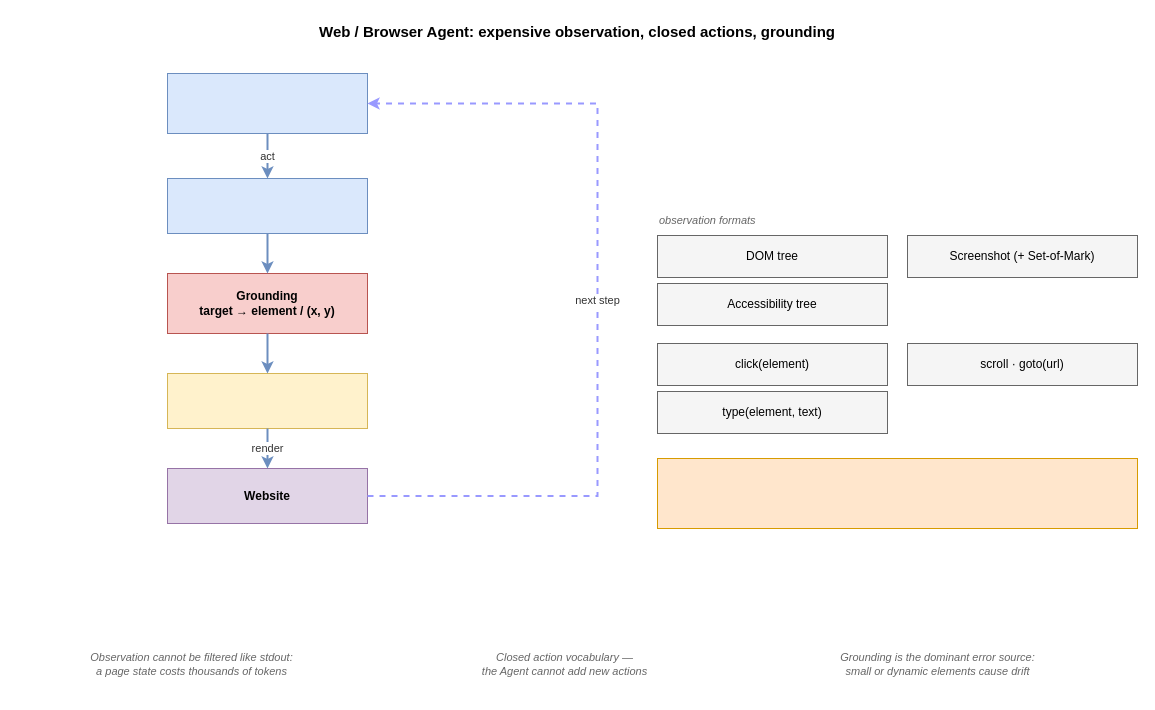
Some shapes in this 1155 by 710 pixel diagram are drawn without their labels. Here are the shapes that lost their labels. From the top down, the box of each, then its label:
(166, 72, 368, 134): Agent
(166, 178, 368, 234): Action Executor
(166, 372, 368, 428): Observation
(656, 458, 1138, 528): Observation must be compressed: DOM pruning, AX-tree only, or Set-of-Mark
